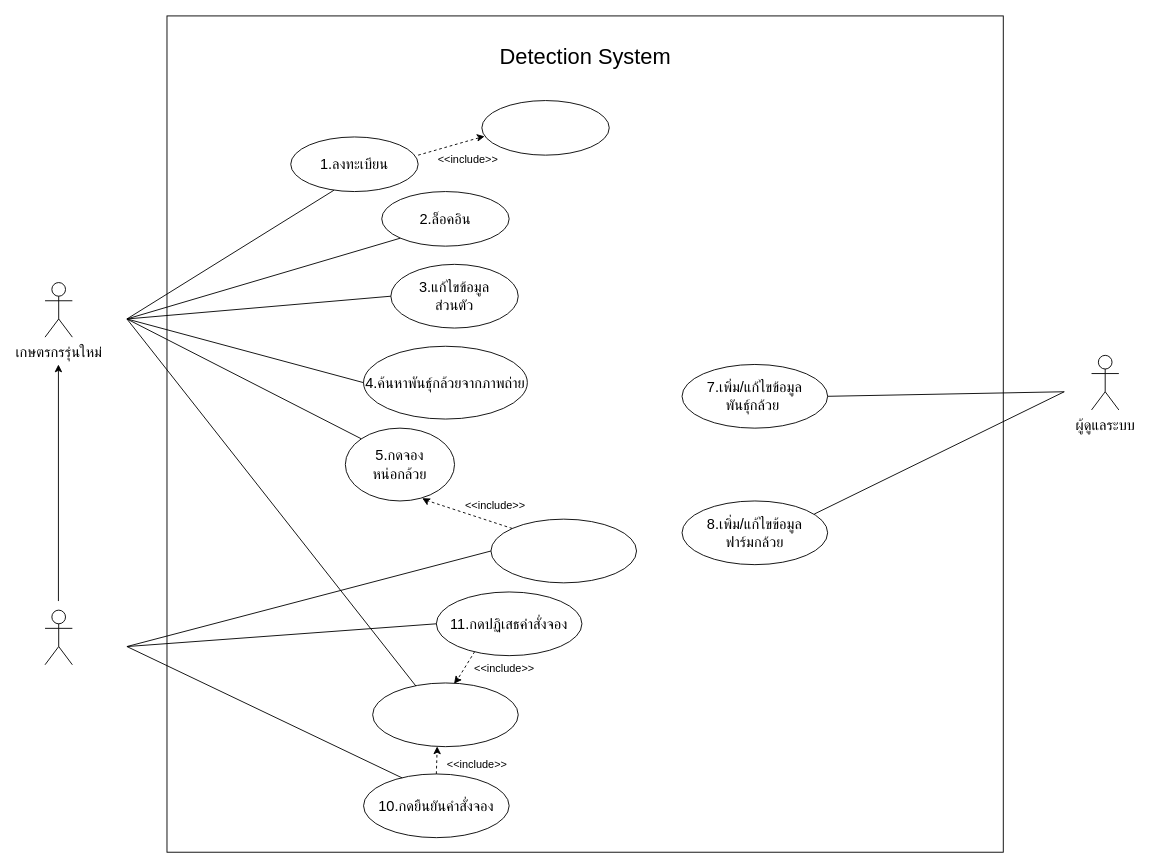
The diagram is 1150 pixels wide and 868 high, and some of its shapes have lost their labels. The shapes that lost their labels are listed below. From the top down, each one's centre as x and y in pixels, then its label:
At (x=545, y=127): "12.กรอกข้อมูล ส่วนตัว".
At (x=563, y=550): "9.แจ้งเตือนคำสั่งจอง".
At (x=58, y=637): "เจ้าของฟาร์ม".
At (x=445, y=714): "6.แจ้งเตือนสถานะ คำสั่งจอง".
